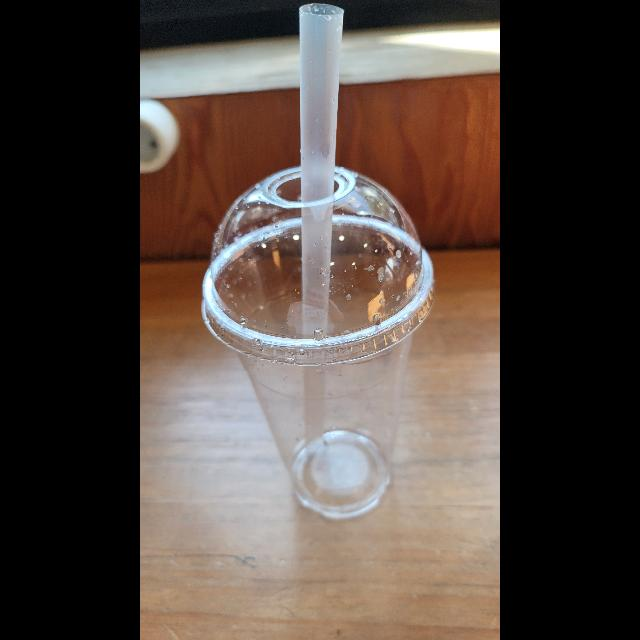plastic_cup: (193, 163, 437, 525)
plastic_cup_lid: (201, 162, 445, 366)
straw: (306, 0, 348, 448)
